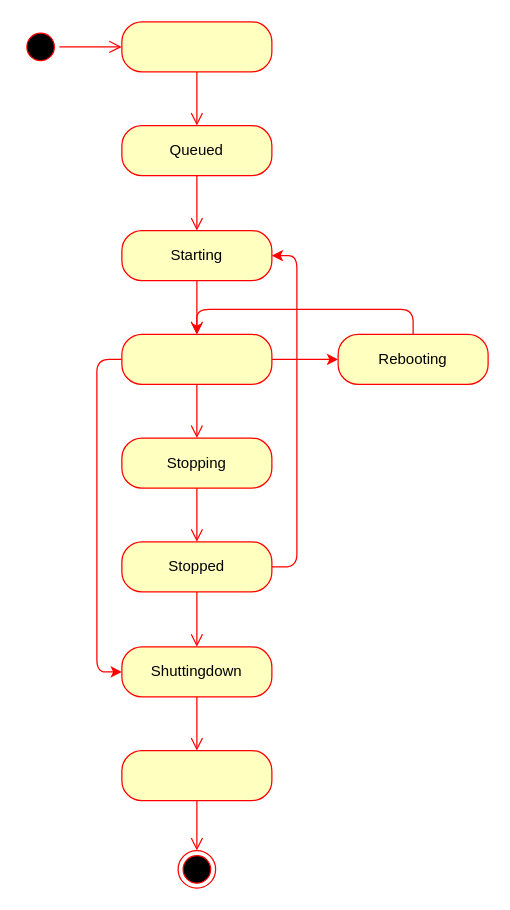
Some shapes in this 510 by 910 pixel diagram are drawn without their labels. The centre of each missing label's shape, as x and y in pixels:
Registered: the point at 196,46
Running: the point at 196,358
Terminated: the point at 196,775
